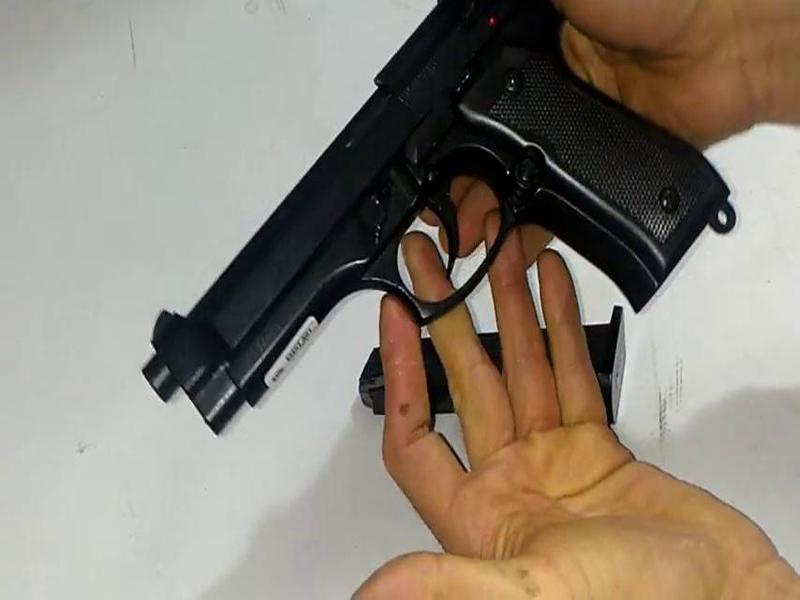Pistola: (133, 1, 726, 447)
